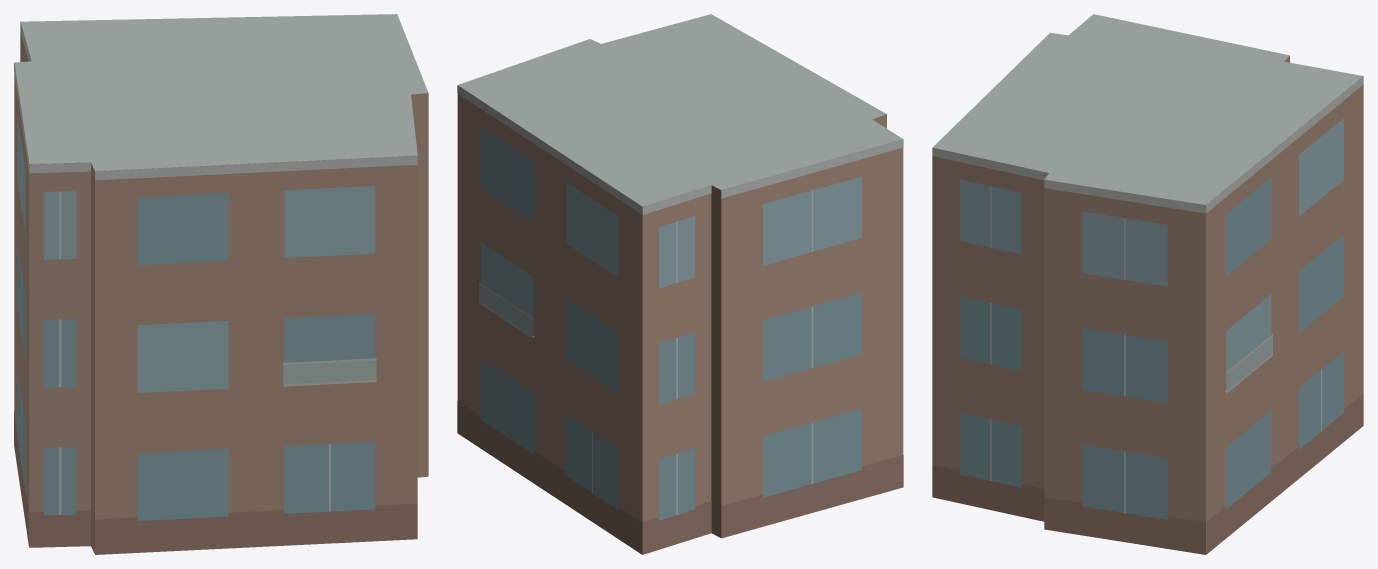
Rendered from survey-upis-32511979.glb.
3 views of the same model, side by side, from view 1: azimuth 30°, elevation 25°; view 2: azimuth 150°, elevation 25°; view 3: azimuth 270°, elevation 25° (orthographic). The views are drawn at different scales.
Parts seen in each view (by area): view 1: survey-upis-32511979.tmp; view 2: survey-upis-32511979.tmp; view 3: survey-upis-32511979.tmp.
Part boxes in pixels (left/top/right/bottom): survey-upis-32511979.tmp: left=14, top=14, right=428, bottom=554; survey-upis-32511979.tmp: left=457, top=14, right=903, bottom=554; survey-upis-32511979.tmp: left=932, top=14, right=1363, bottom=554.
Size of the model in its own units: 11.85 by 10.1 by 11.3.
